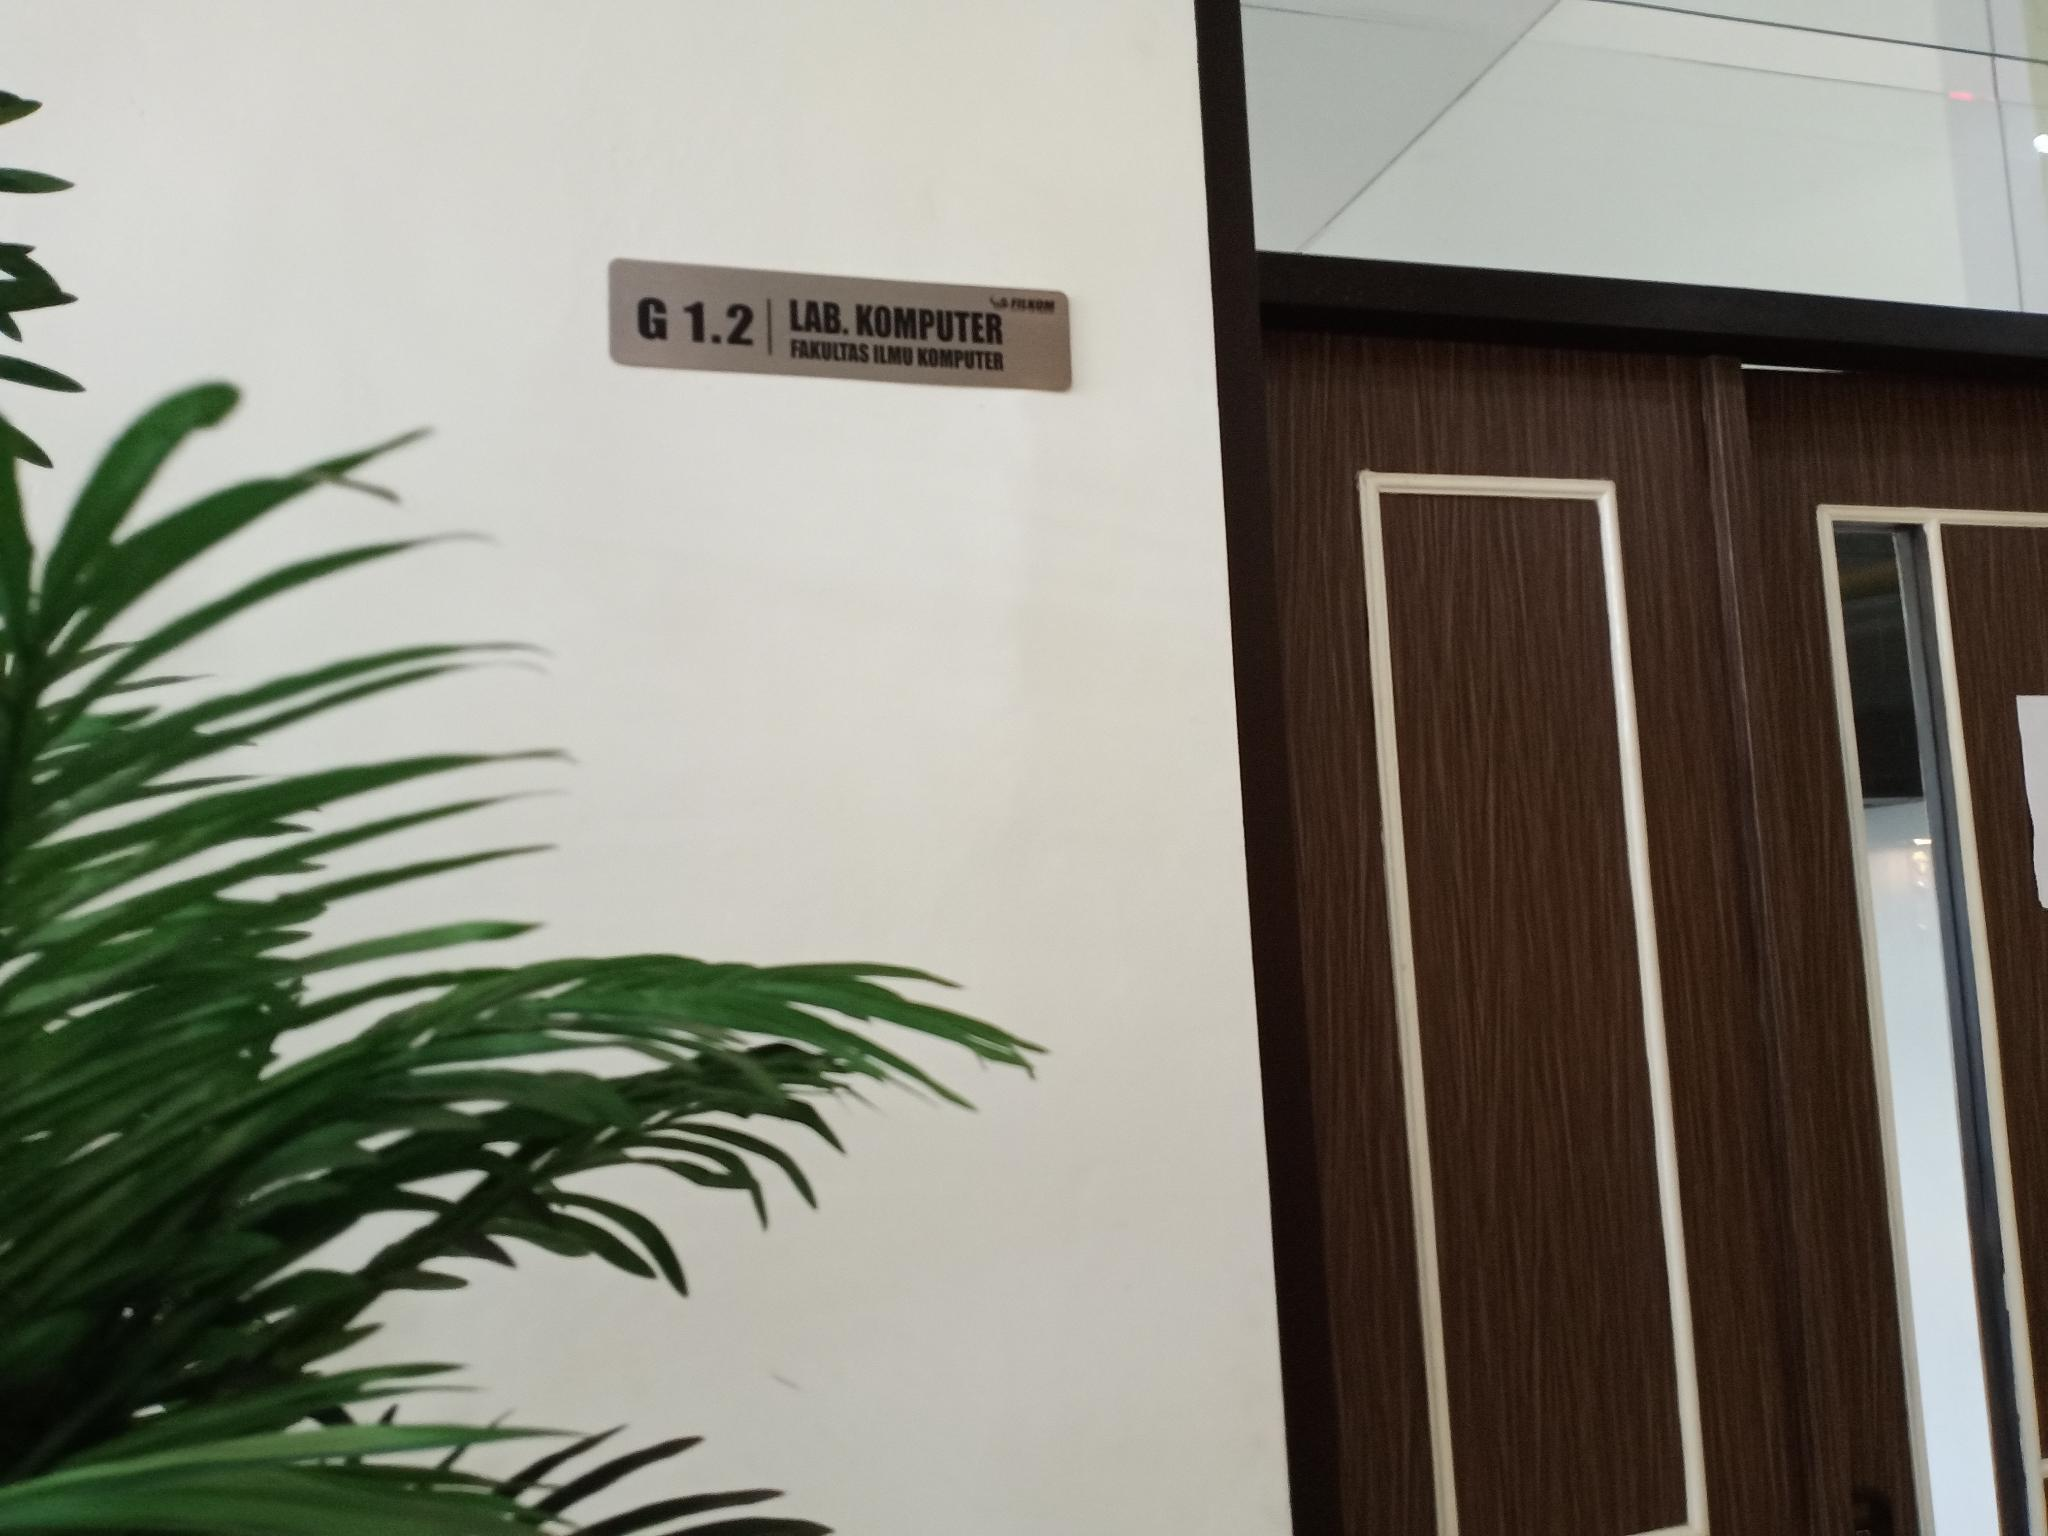plate: (608, 258, 1072, 392)
